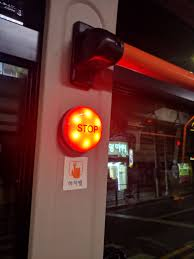bell: (54, 101, 109, 155)
